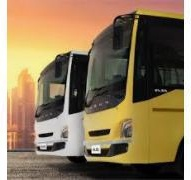bus: (83, 12, 184, 169), (34, 47, 87, 157)
